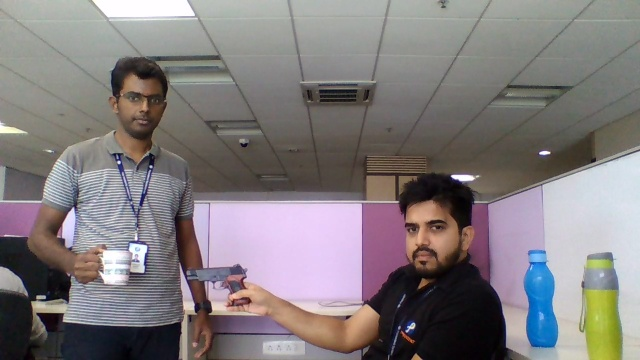gun: (185, 265, 247, 285)
